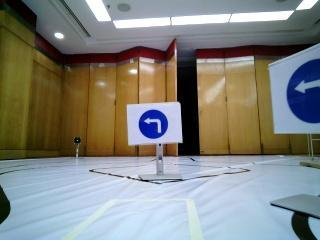left: (267, 62, 320, 126), (130, 105, 180, 144)
